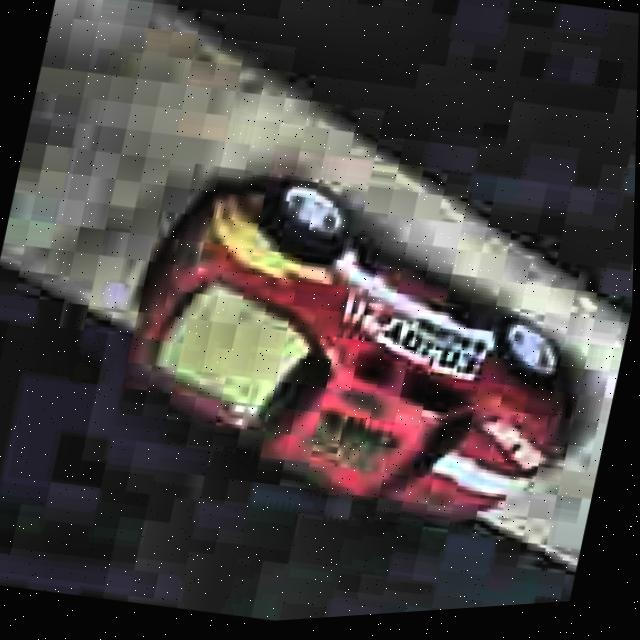car: (91, 127, 622, 571)
